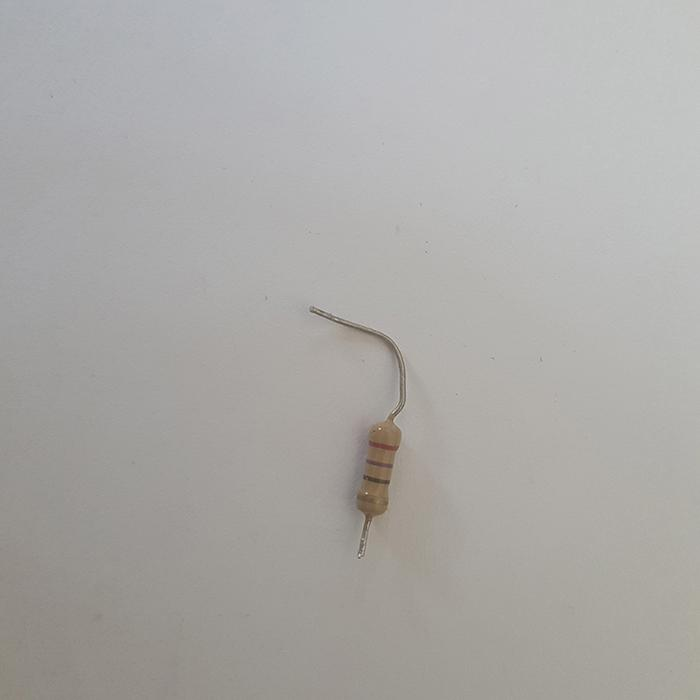resistor: (356, 418, 402, 522)
